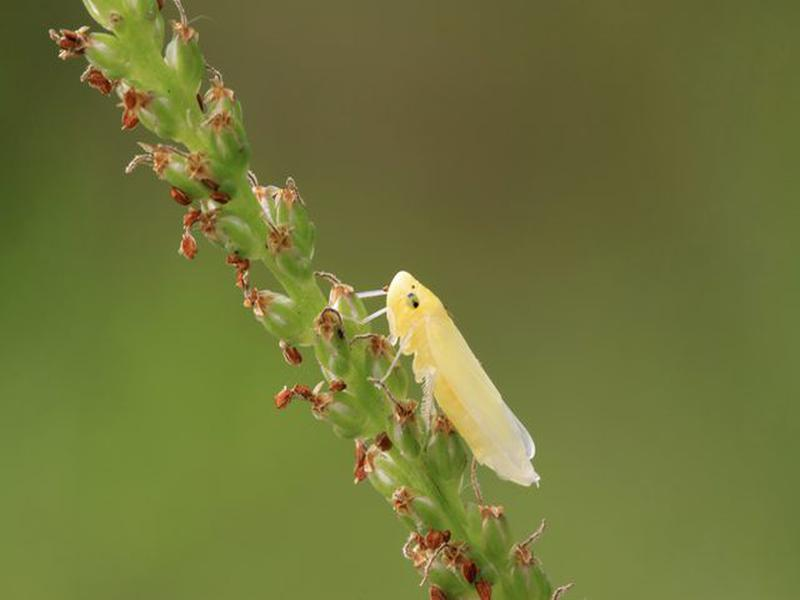Brown_plant_leafhopper: (359, 249, 552, 515)
